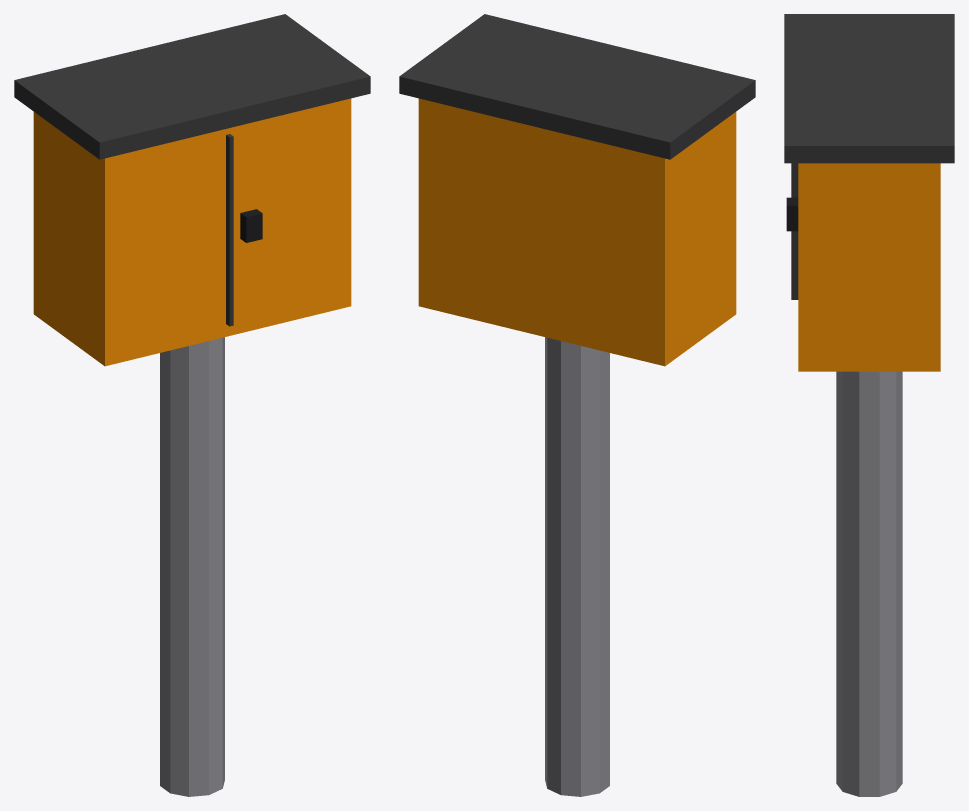
The picture shows the model from 3 angles, left to right: view 1: azimuth 30°, elevation 25°; view 2: azimuth 150°, elevation 25°; view 3: azimuth 270°, elevation 25°; orthographic projection.
Parts seen in each view (by area): view 1: cabinet, post, cap, seam, lock; view 2: cabinet, post, cap; view 3: cabinet, post, cap, seam, lock.
Boxes of the visible parts, x1,y1,x2,y2 form: cabinet: (33,98,351,366); post: (160,337,224,796); cap: (14,14,370,159); seam: (226,134,233,326); lock: (240,209,262,242); cabinet: (418,98,736,366); post: (545,337,609,796); cap: (399,14,755,159); cabinet: (798,163,940,371); post: (836,371,902,796); cap: (784,14,954,163); seam: (791,163,798,299); lock: (786,197,798,231).
Size of the model in its own units: 0.66 by 1.64 by 0.36.
